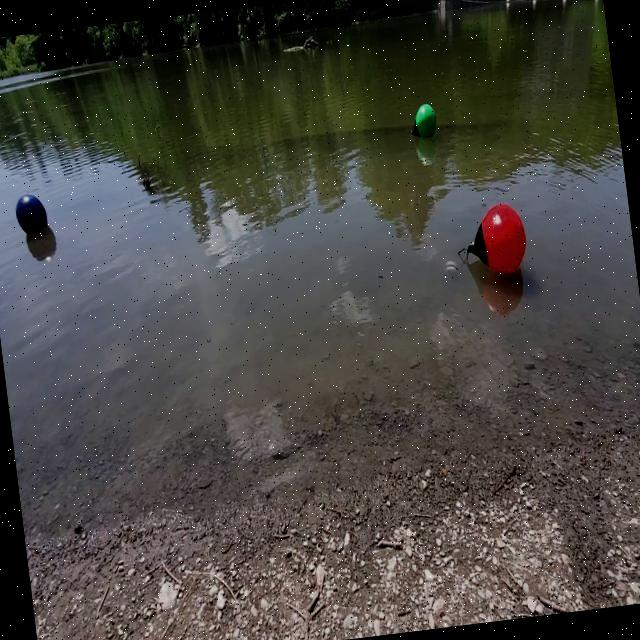buoy: (450, 198, 532, 284), (12, 188, 52, 239), (406, 100, 440, 144)
